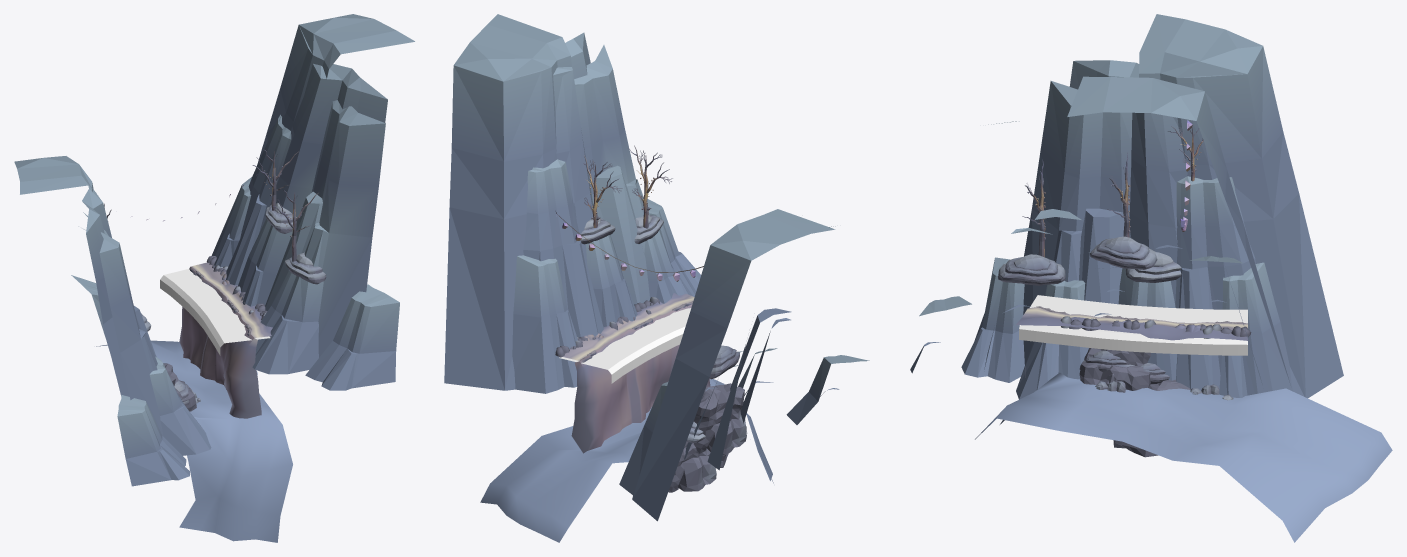
Rendered from Arctic_Narrows_Left_Curve_Right_15_A.glb.
3 views of the same model, side by side, from view 1: azimuth 30°, elevation 25°; view 2: azimuth 150°, elevation 25°; view 3: azimuth 270°, elevation 25° (orthographic). The views are drawn at different scales.
Parts seen in each view (by area): view 1: Arctic_Narrows_Left_IceWall_A02, Arctic_Narrows_Left_Curve_Right_15_A, Arctic_Narrows_Right_IceWall_A01, Arctic_Narrows_Left_IceWall_A02_Mid, Arctic_Narrows_Right_IceWall_A01_Left, Arctic_Narrows_Left_IceWall_A02_Right, Arctic_Narrows_Left_IceWall_A02_Left, inv_fill; view 2: Arctic_Narrows_Left_IceWall_A02, Arctic_Narrows_Left_Curve_Right_15_A, Arctic_Narrows_Right_IceWall_A01, Arctic_Narrows_Left_IceWall_A02_Left, Arctic_Narrows_Left_IceWall_A02_Mid, inv_fill, Arctic_Narrows_Right_IceWall_A01_Left, Arctic_Narrows_Right_IceWall_A01_Right, Arctic_Narrows_Left_IceWall_A02_Right, Arctic_Narrows_Big_Rock_A01_Top, Arctic_Narrows_Big_Rock_A01 (3), Arctic_Narrows_Big_Rock_A01 (5) (+2 smaller); view 3: Arctic_Narrows_Right_IceWall_A01, Arctic_Narrows_Left_Curve_Right_15_A, Arctic_Narrows_Right_IceWall_A01_Mid, Arctic_Narrows_Right_IceWall_A01_Left, Arctic_Narrows_Left_IceWall_A02, inv_fill, Arctic_Narrows_Right_IceWall_A01_Right, Arctic_Narrows_Big_Rock_A01_Top, Arctic_Narrows_Right_Snow_A01 (2), Arctic_Narrows_Right_Snow_A01 (1), Arctic_Narrows_Left_IceWall_A02_Right.
Boxes of the visible parts, x1,y1,x2,y2 form: Arctic_Narrows_Left_IceWall_A02: [257, 14, 414, 357]; Arctic_Narrows_Left_Curve_Right_15_A: [96, 262, 292, 542]; Arctic_Narrows_Right_IceWall_A01: [14, 156, 163, 435]; Arctic_Narrows_Left_IceWall_A02_Mid: [238, 218, 323, 374]; Arctic_Narrows_Right_IceWall_A01_Left: [117, 356, 211, 486]; Arctic_Narrows_Left_IceWall_A02_Right: [305, 284, 399, 390]; Arctic_Narrows_Left_IceWall_A02_Left: [211, 114, 291, 285]; inv_fill: [160, 269, 270, 355]; Arctic_Narrows_Left_IceWall_A02: [444, 14, 649, 390]; Arctic_Narrows_Left_Curve_Right_15_A: [480, 293, 773, 542]; Arctic_Narrows_Right_IceWall_A01: [632, 209, 835, 521]; Arctic_Narrows_Left_IceWall_A02_Left: [512, 159, 603, 393]; Arctic_Narrows_Left_IceWall_A02_Mid: [586, 230, 692, 327]; inv_fill: [559, 308, 691, 383]; Arctic_Narrows_Right_IceWall_A01_Left: [738, 348, 869, 424]; Arctic_Narrows_Right_IceWall_A01_Right: [619, 381, 668, 494]; Arctic_Narrows_Left_IceWall_A02_Right: [647, 199, 700, 296]; Arctic_Narrows_Big_Rock_A01_Top: [695, 383, 744, 420]; Arctic_Narrows_Big_Rock_A01 (3): [668, 460, 716, 492]; Arctic_Narrows_Big_Rock_A01 (5): [694, 423, 746, 454]; Arctic_Narrows_Right_IceWall_A01: [1023, 14, 1343, 398]; Arctic_Narrows_Left_Curve_Right_15_A: [975, 307, 1392, 542]; Arctic_Narrows_Right_IceWall_A01_Mid: [1118, 176, 1255, 390]; Arctic_Narrows_Right_IceWall_A01_Left: [961, 257, 1088, 399]; Arctic_Narrows_Left_IceWall_A02: [988, 76, 1290, 385]; inv_fill: [1019, 295, 1247, 355]; Arctic_Narrows_Right_IceWall_A01_Right: [1219, 262, 1292, 397]; Arctic_Narrows_Big_Rock_A01_Top: [1079, 361, 1150, 390]; Arctic_Narrows_Right_Snow_A01 (2): [998, 263, 1065, 285]; Arctic_Narrows_Right_Snow_A01 (1): [1090, 244, 1157, 269]; Arctic_Narrows_Left_IceWall_A02_Right: [910, 296, 971, 373].
Bounding box in the file's own units: 24.82 × 27.62 × 23.78.
